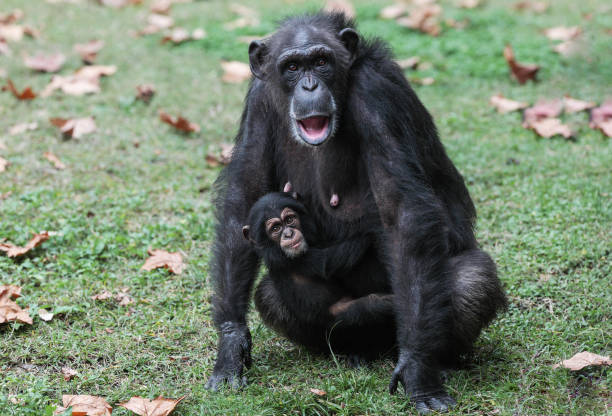chimpanzee: (230, 4, 413, 156), (236, 182, 331, 282)
